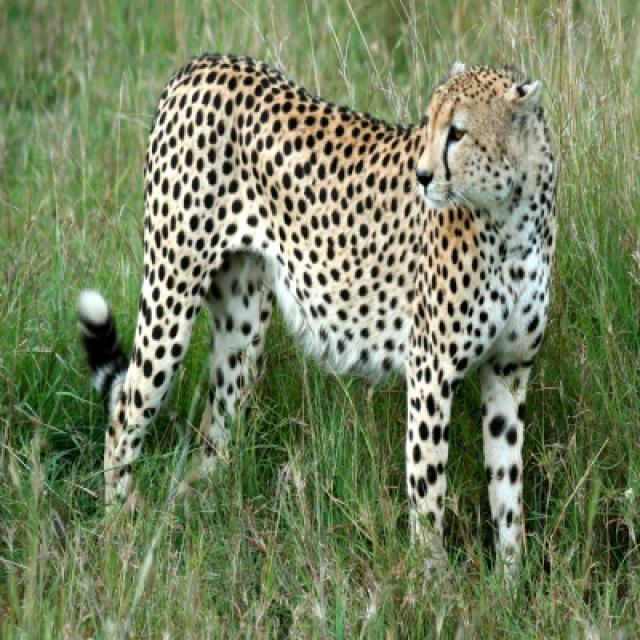Cheetah: (78, 53, 558, 565)
